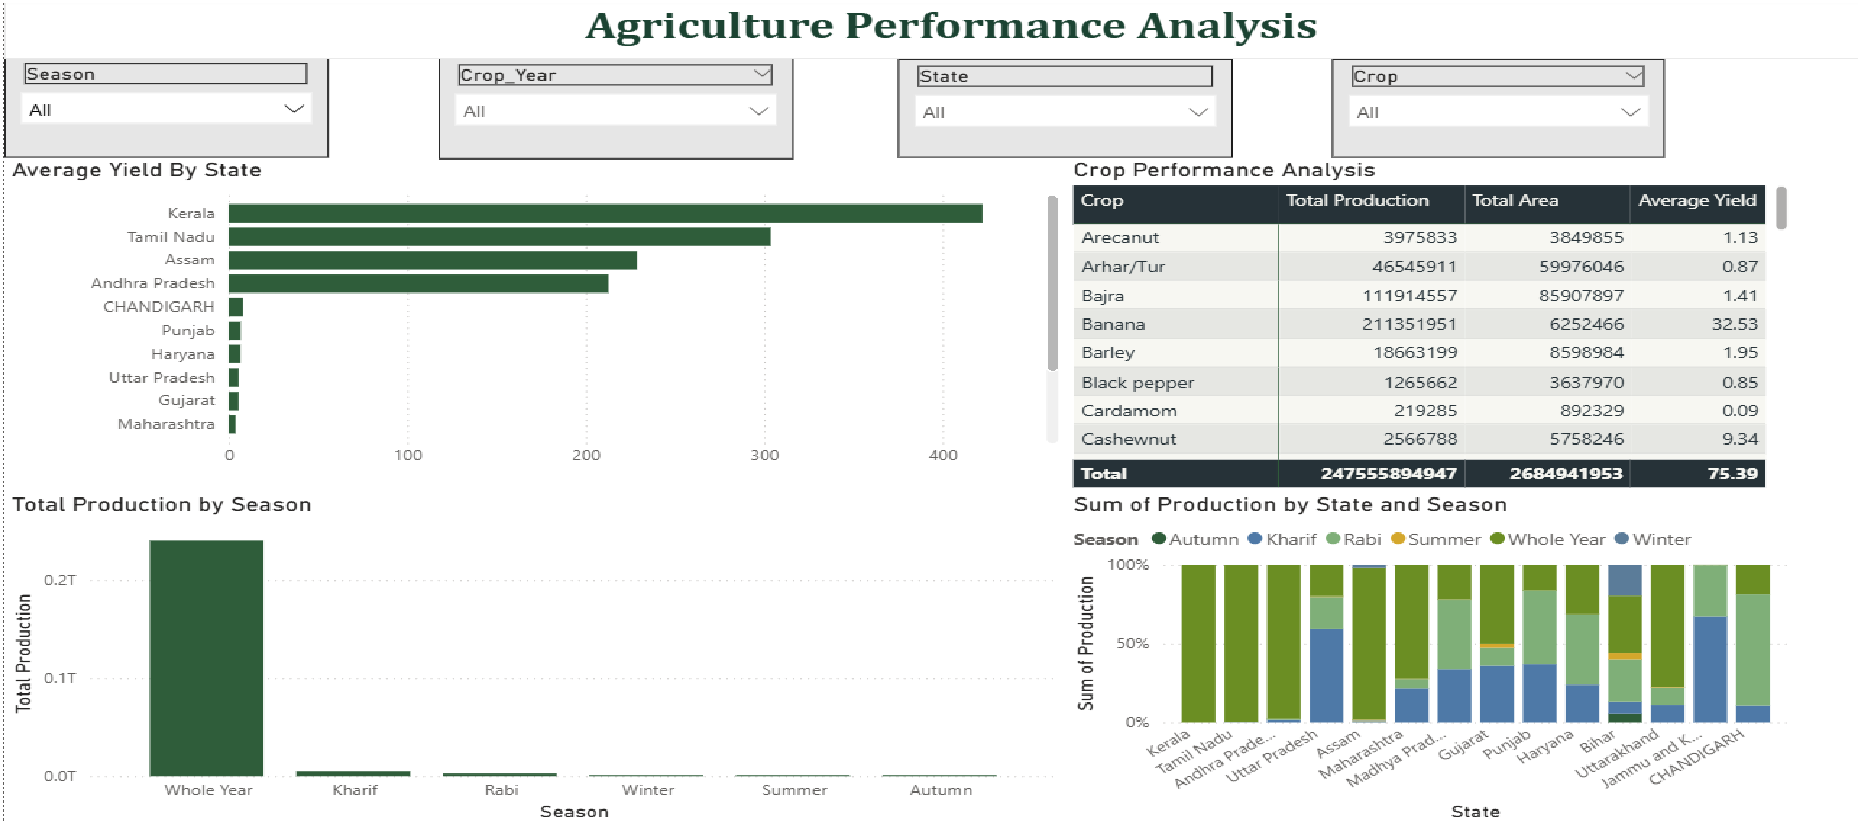

The page's visual inventory and layout, read from the dashboard file:
{"tool":"powerbi","page":{"name":"Agriculture Performance Analysis","canvas":[1280,720],"ordinal":1},"visuals":[{"type":"clusteredBarChart","title":"Average Yield By State","fields":{"Category":["Sheet1.State"],"Y":["Avg(Sheet1.Yield)"]},"box":[0,139.4,717.8,291],"z":0},{"type":"pivotTable","title":"Crop Performance Analysis","fields":{"Rows":["Sheet1.Crop"],"Values":["Sum(Sheet1.Production)","Sum(Sheet1.Area )","Avg(Sheet1.Yield)"]},"box":[717.8,139.4,492.8,291],"z":1000},{"type":"clusteredColumnChart","fields":{"Category":["Sheet1.Season"],"Y":["Sheet1.Total Production"]},"box":[0,430.4,717.8,289.8],"z":2000},{"type":"hundredPercentStackedColumnChart","fields":{"Category":["Sheet1.State"],"Y":["Sum(Sheet1.Production)"],"Series":["Sheet1.Season"]},"box":[717.8,430.4,492.8,289.8],"z":3000},{"type":"slicer","fields":{"Values":["Sheet1.Crop_Year"]},"box":[293.5,52.6,239.7,88],"z":4000},{"type":"slicer","fields":{"Values":["Sheet1.State"]},"box":[604.1,53.8,226.2,85.6],"z":5000},{"type":"slicer","fields":{"Values":["Sheet1.Season"]},"box":[0,51.4,218.9,88],"z":6000},{"type":"slicer","fields":{"Values":["Sheet1.Crop"]},"box":[897.6,53.8,225,85.6],"z":7000},{"type":"textbox","box":[0,0,1280.3,53.8],"z":7001}]}

Visuals, with their boxes on the page's 1280x720 design canvas (x1, y1, x2, y2). These are canvas units, not pixel positions in the 1862x830 screenshot, which may show the page scaled, cropped or inside an application window:
"Average Yield By State" clusteredBarChart: Rect(0, 139, 718, 430)
"Crop Performance Analysis" pivotTable: Rect(718, 139, 1211, 430)
clusteredColumnChart - Sheet1.Season x Sheet1.Total Production: Rect(0, 430, 718, 720)
hundredPercentStackedColumnChart - Sheet1.State x Sum(Sheet1.Production): Rect(718, 430, 1211, 720)
slicer - Sheet1.Crop_Year: Rect(294, 53, 533, 141)
slicer - Sheet1.State: Rect(604, 54, 830, 139)
slicer - Sheet1.Season: Rect(0, 51, 219, 139)
slicer - Sheet1.Crop: Rect(898, 54, 1123, 139)
textbox: Rect(0, 0, 1280, 54)
